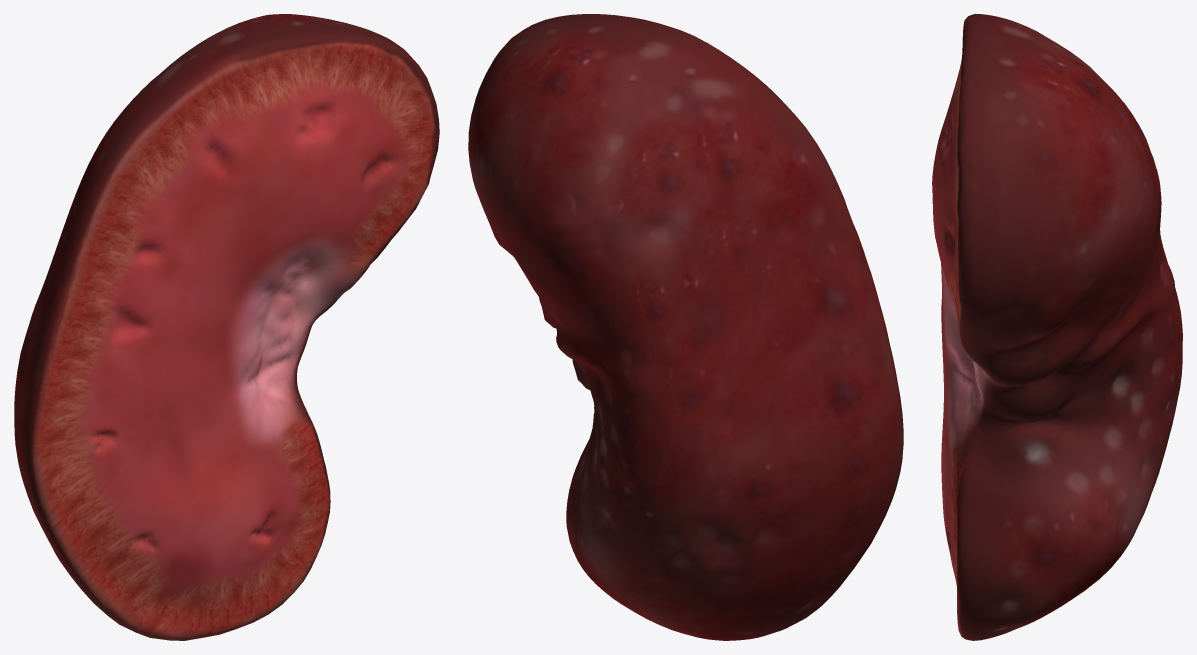
The model's file is 4_hiperkalsemi.glb.
3 views of the same model, side by side, from view 1: azimuth 30°, elevation 25°; view 2: azimuth 150°, elevation 25°; view 3: azimuth 270°, elevation 25° (orthographic). The views are drawn at different scales.
Parts seen in each view (by area): view 1: bobrektemel; view 2: bobrektemel; view 3: bobrektemel.
Boxes of the visible parts, x1,y1,x2,y2 form: bobrektemel: (14,14,439,640); bobrektemel: (468,14,903,640); bobrektemel: (932,14,1182,640).
Bounding box in the file's own units: 0.393 × 0.5328 × 0.1959.
1 material, 1 textured.
